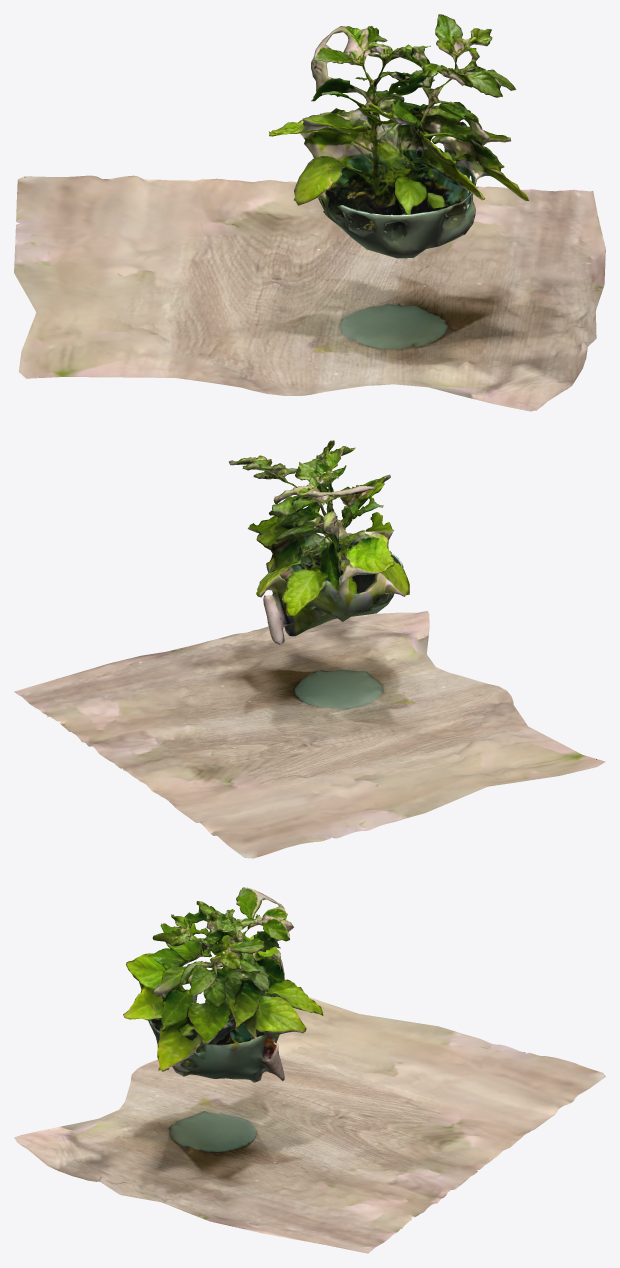
Rendered from plant scan.glb.
3 renders of one model, top to bottom at view 1: azimuth 30°, elevation 25°; view 2: azimuth 150°, elevation 25°; view 3: azimuth 270°, elevation 25°, orthographic. The views are drawn at different scales.
Bounding box in the file's own units: 0.6368 × 0.2785 × 0.6271.
Materials: 1 (1 with a texture image).
